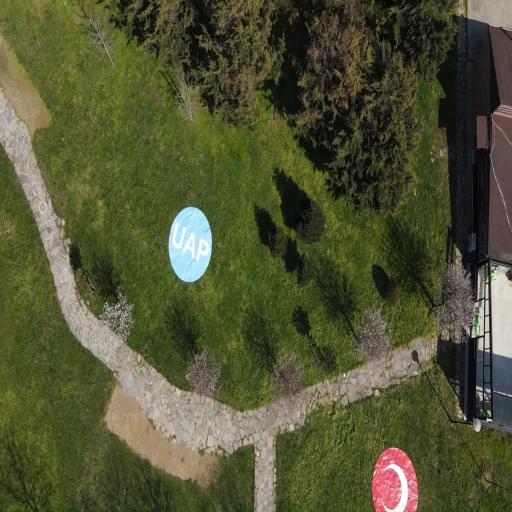UAP: (372, 448, 418, 512)
car: (169, 207, 212, 282)
